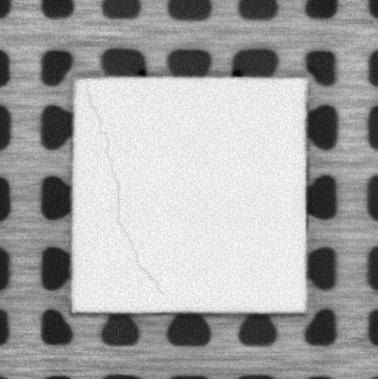DIE_CRACK: (86, 83, 164, 294)
